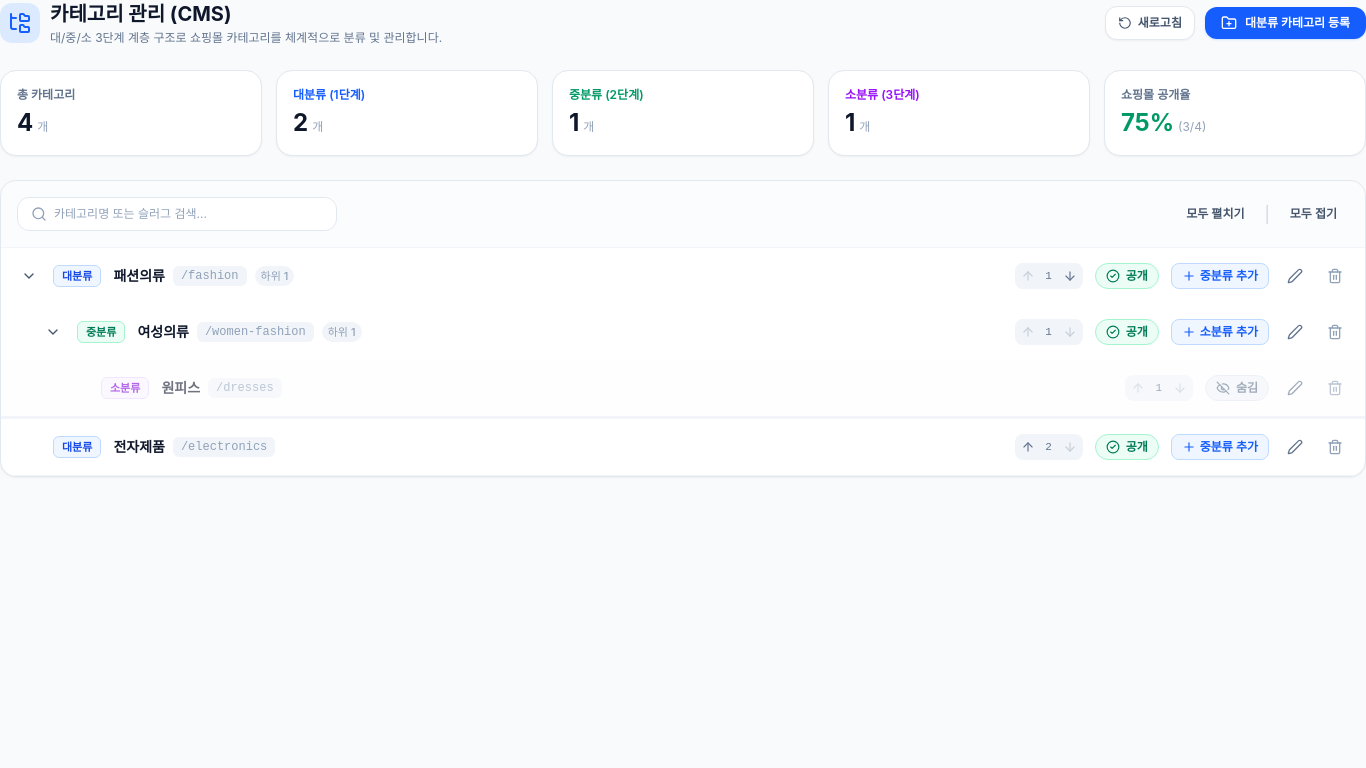
Scenario: AdminCategoryListViewer › 대분류 카테고리 등록 버튼 클릭 시 등록 모달이 열린다
The width and height of the screenshot is (1366, 768).
Step 1. Click the button "대분류 카테고리 등록" → (1286, 23), box [1205,7,1365,39]
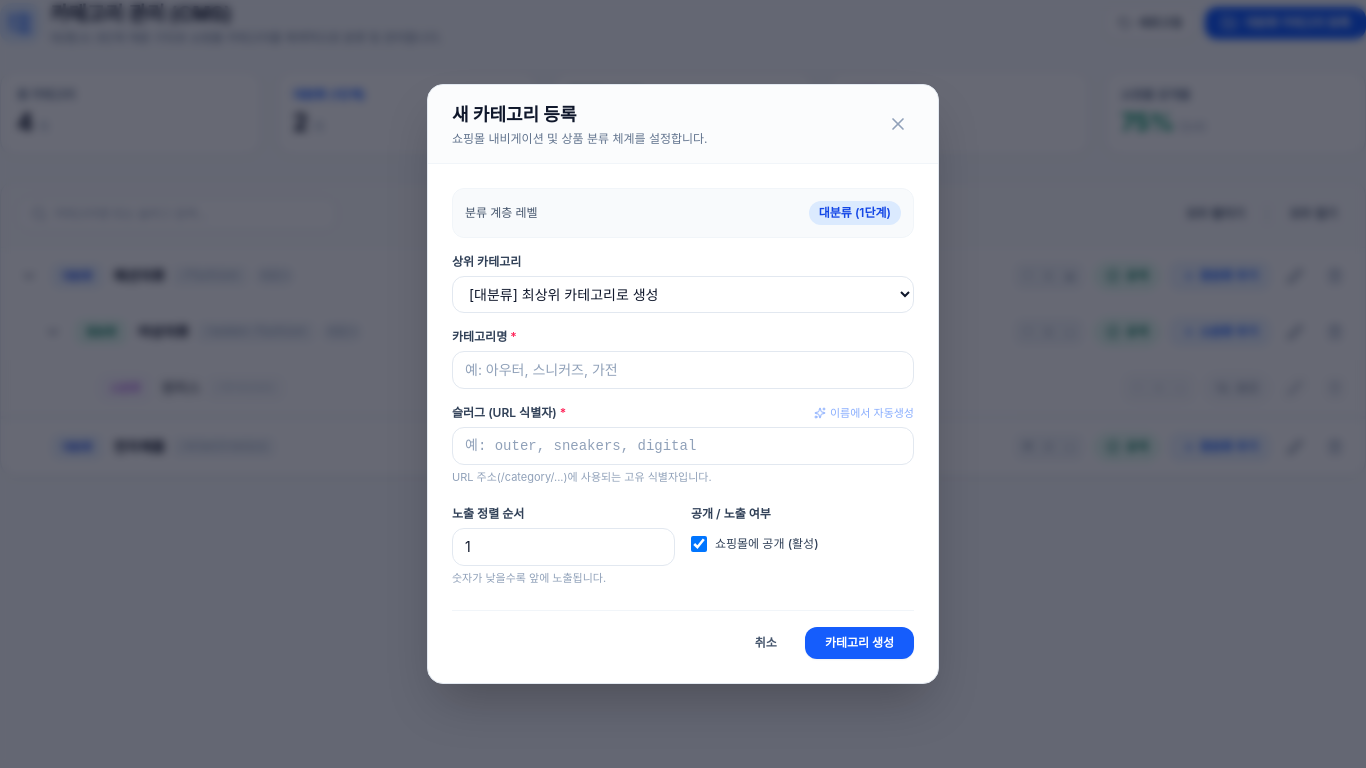
Now the heading "새 카테고리 등록" is shown, box [452,104,576,125]
